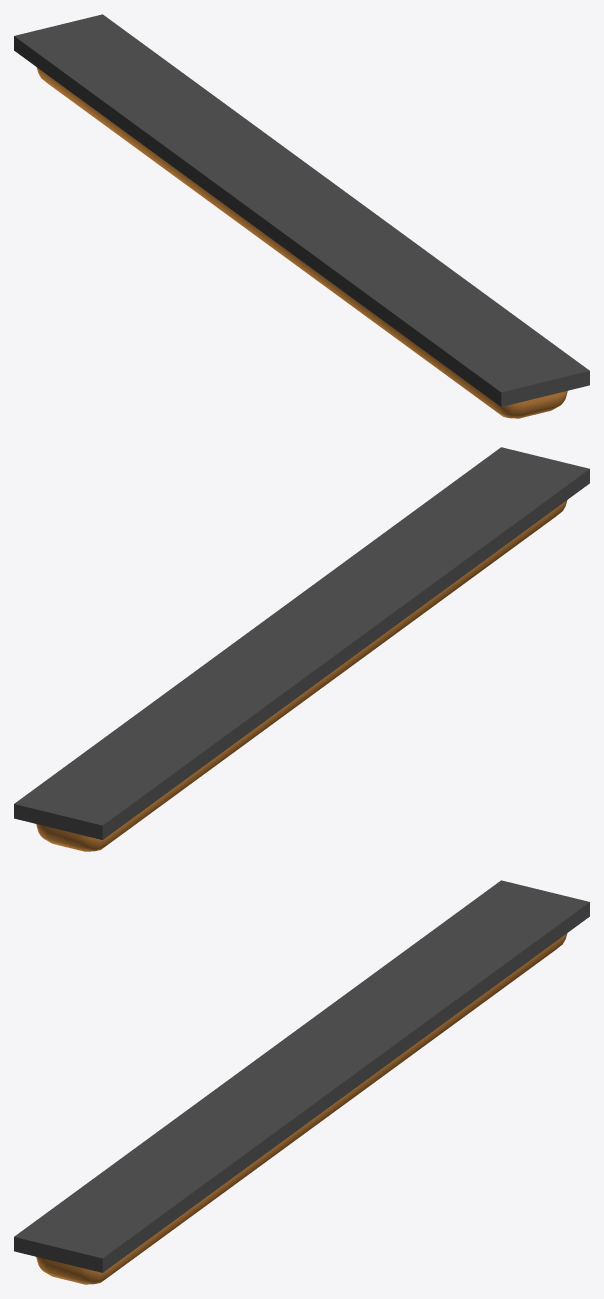
The model's file is Lamp3.fbx.
3 renders of one model, top to bottom at view 1: azimuth 30°, elevation 25°; view 2: azimuth 150°, elevation 25°; view 3: azimuth 330°, elevation 25°, orthographic.
Parts seen in each view (by area): view 1: Lamp3; view 2: Lamp3; view 3: Lamp3.
Part boxes in pixels (box(x1,y1,x2,y2)): Lamp3: box(14, 14, 589, 418); Lamp3: box(14, 447, 589, 851); Lamp3: box(14, 880, 589, 1284).
Bounding box in the file's own units: 8.72 × 4.1 × 82.89.
